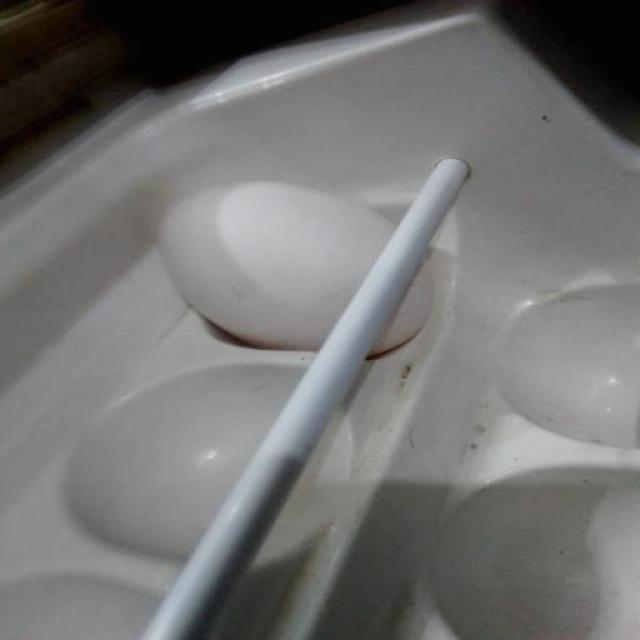telur: (159, 178, 439, 360)
